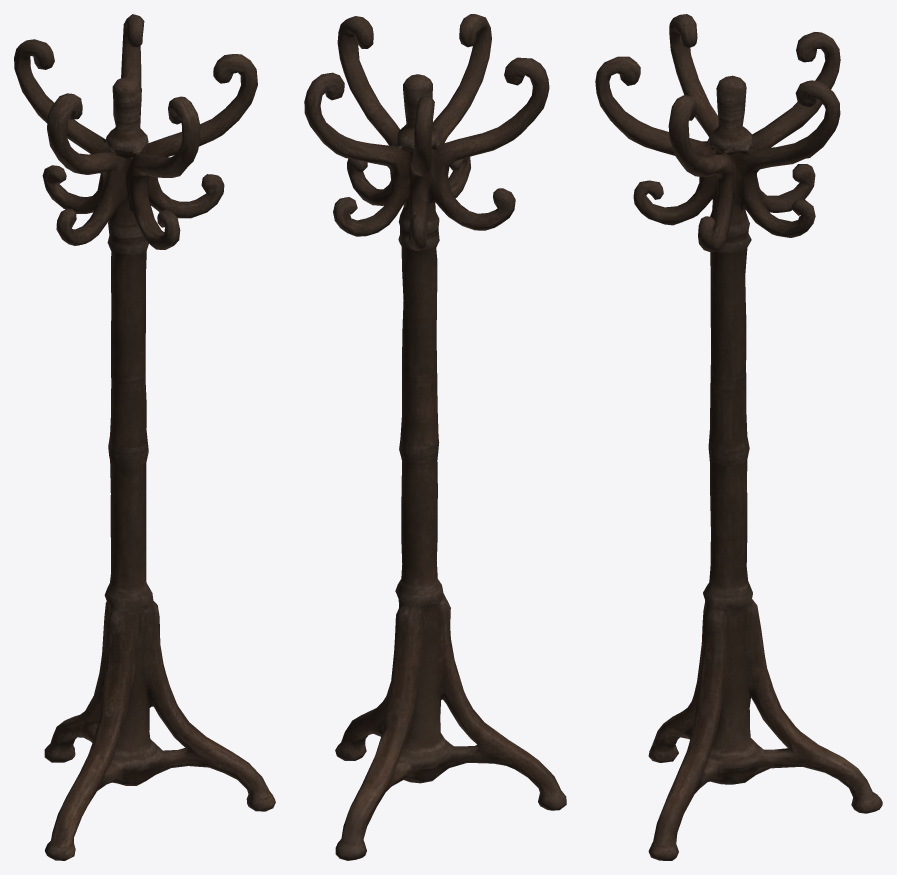
File: coat-stand.glb
The picture shows the model from 3 angles, left to right: view 1: azimuth 30°, elevation 25°; view 2: azimuth 150°, elevation 25°; view 3: azimuth 270°, elevation 25°; orthographic projection.
Visible parts, largest first — view 1: Mesh_0; view 2: Mesh_0; view 3: Mesh_0.
Boxes of the visible parts, bbox=[...] form: Mesh_0: bbox=[14, 14, 275, 860]; Mesh_0: bbox=[304, 14, 566, 860]; Mesh_0: bbox=[595, 14, 882, 860].
Bounding box in the file's own units: 0.3171 × 1 × 0.3465.
Materials: 1 (1 with a texture image).
